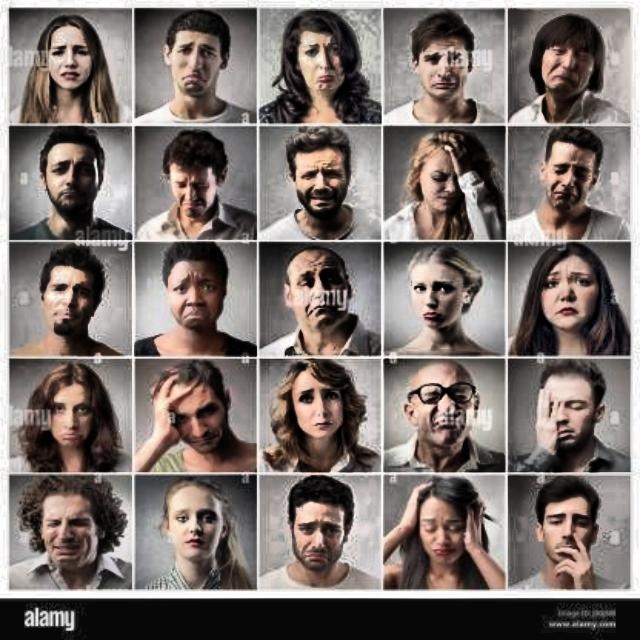neutral: (140, 479, 256, 588)
sad: (508, 474, 635, 589), (6, 475, 129, 590), (5, 360, 131, 470), (388, 131, 509, 244), (514, 362, 634, 474), (15, 128, 130, 243), (385, 473, 500, 588), (270, 8, 371, 135), (13, 244, 126, 356), (145, 360, 260, 470), (269, 360, 382, 470), (513, 244, 623, 356), (395, 1, 495, 122), (388, 363, 497, 470), (265, 477, 366, 589), (526, 16, 626, 126), (525, 132, 628, 238), (139, 132, 240, 239), (267, 133, 371, 236), (390, 247, 494, 350), (15, 18, 115, 119), (147, 10, 237, 119), (148, 249, 240, 350), (275, 259, 364, 352)
